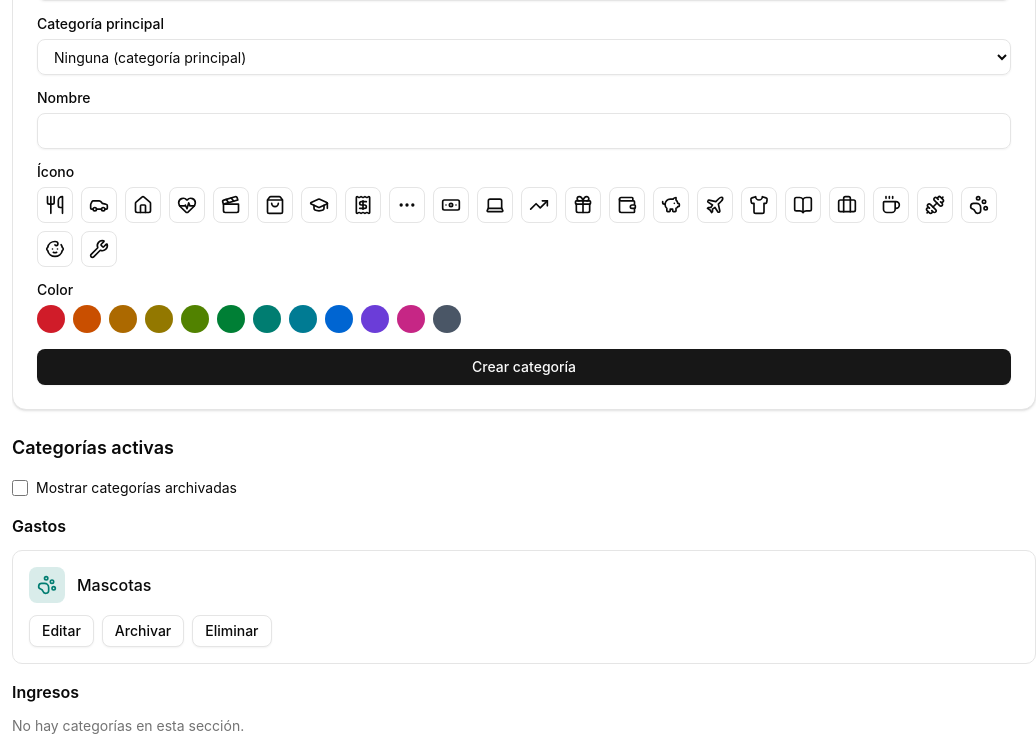
Test case: CategoriesContainer › keeps the edit open with the duplicate-name message (AC-11)
(page scrolled)
Click the button named "Editar Mascotas" at (61, 631), box 29,615 -> 94,647
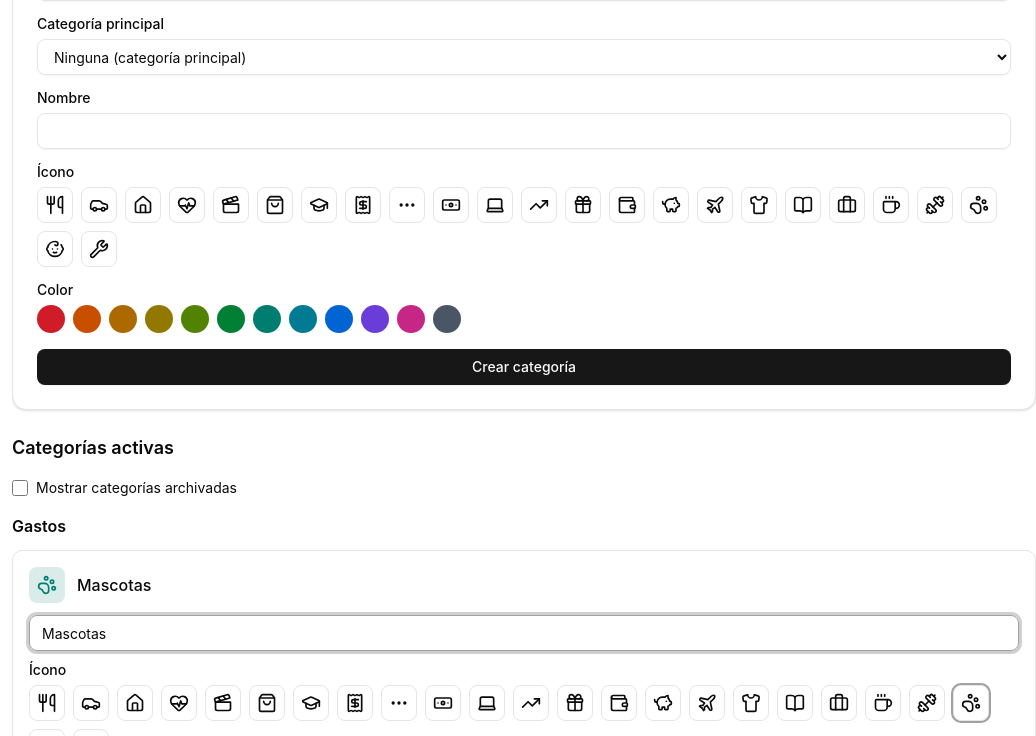
Replace the text in the field named "Nuevo nombre de Mascotas" with "Comida" at (524, 633), box 29,615 -> 1019,651
(page scrolled)
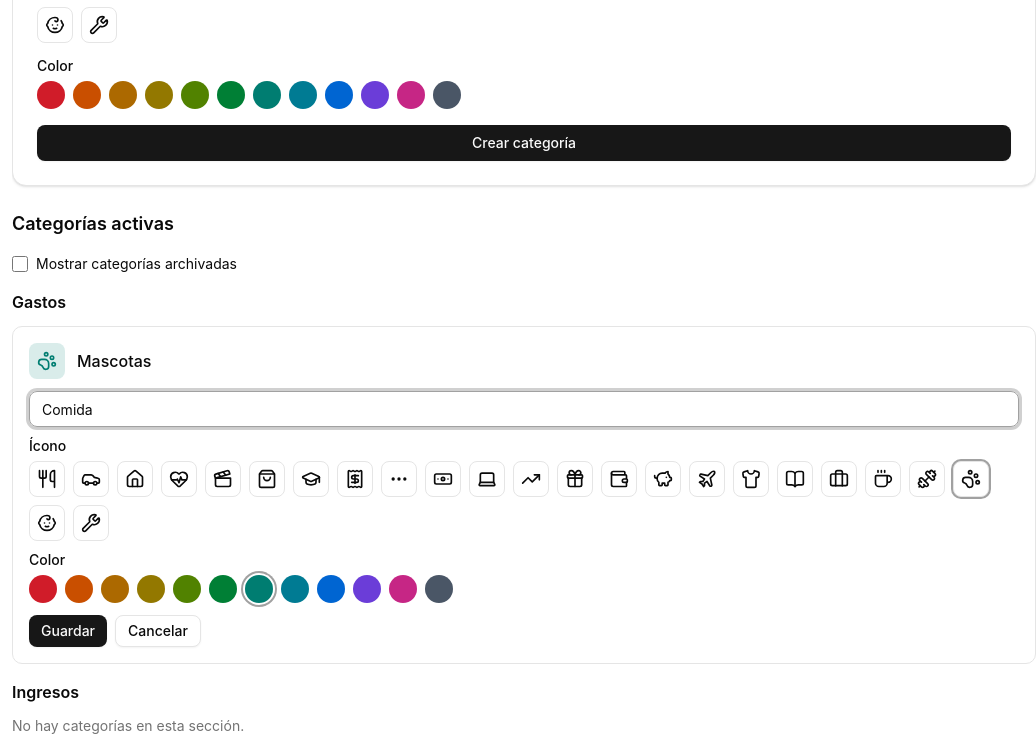
Click the button "Guardar" at (68, 631), box 29,615 -> 107,647
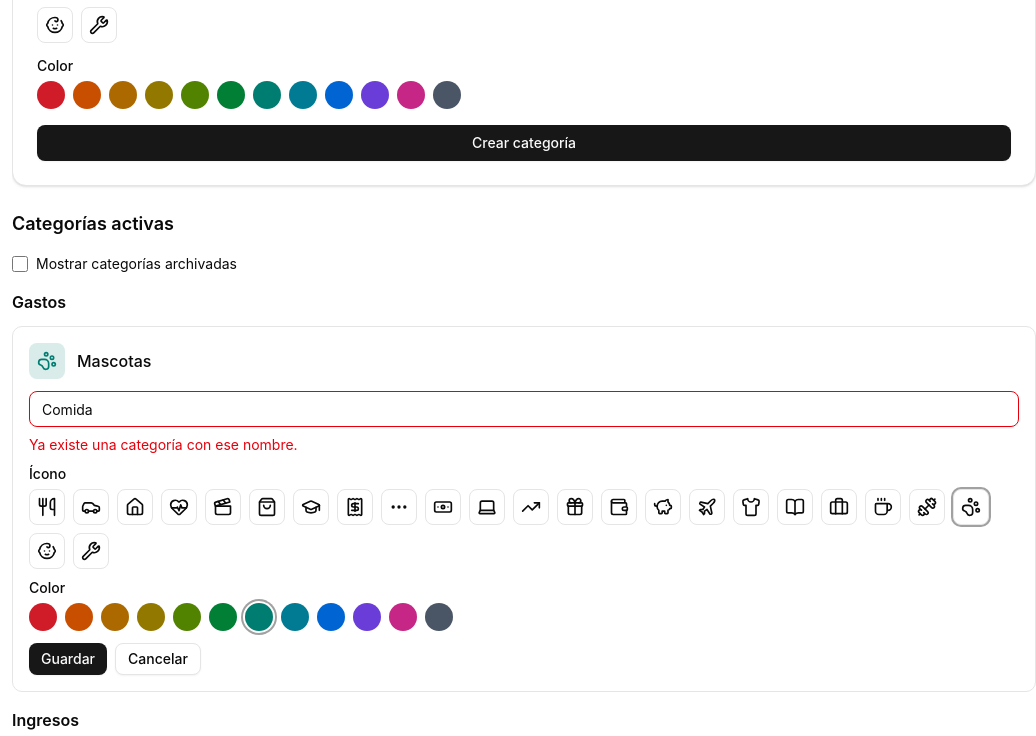
Result: the text "Ya existe una categoría con ese nombre." is shown at 29,436 -> 298,453
